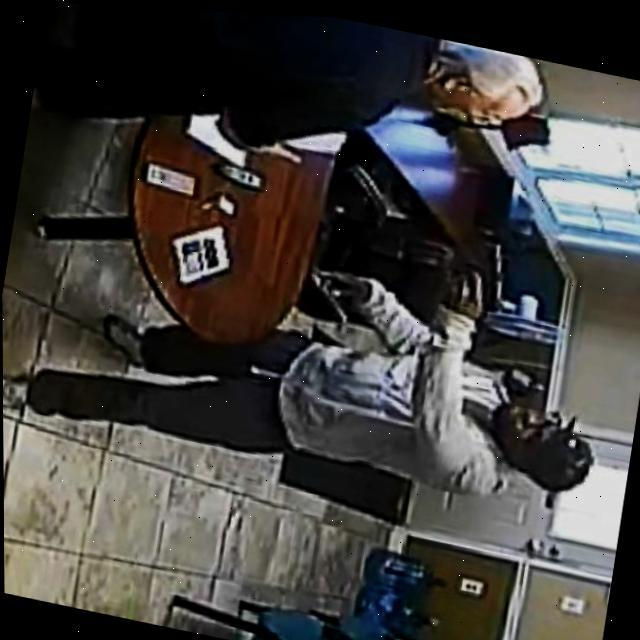gun: (442, 226, 513, 308)
